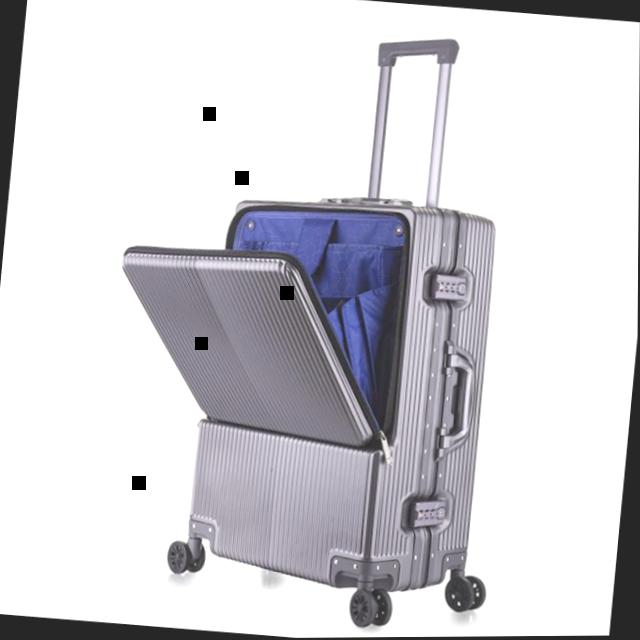luggage: (82, 163, 509, 612)
